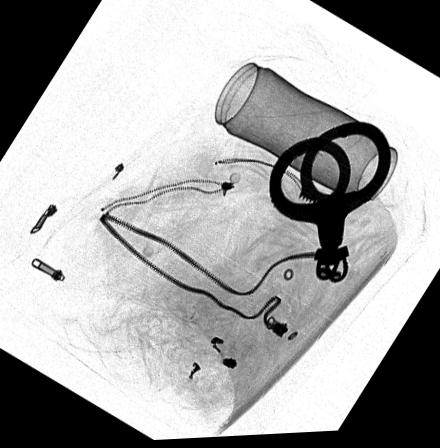HandCuffs: (264, 121, 392, 290)
